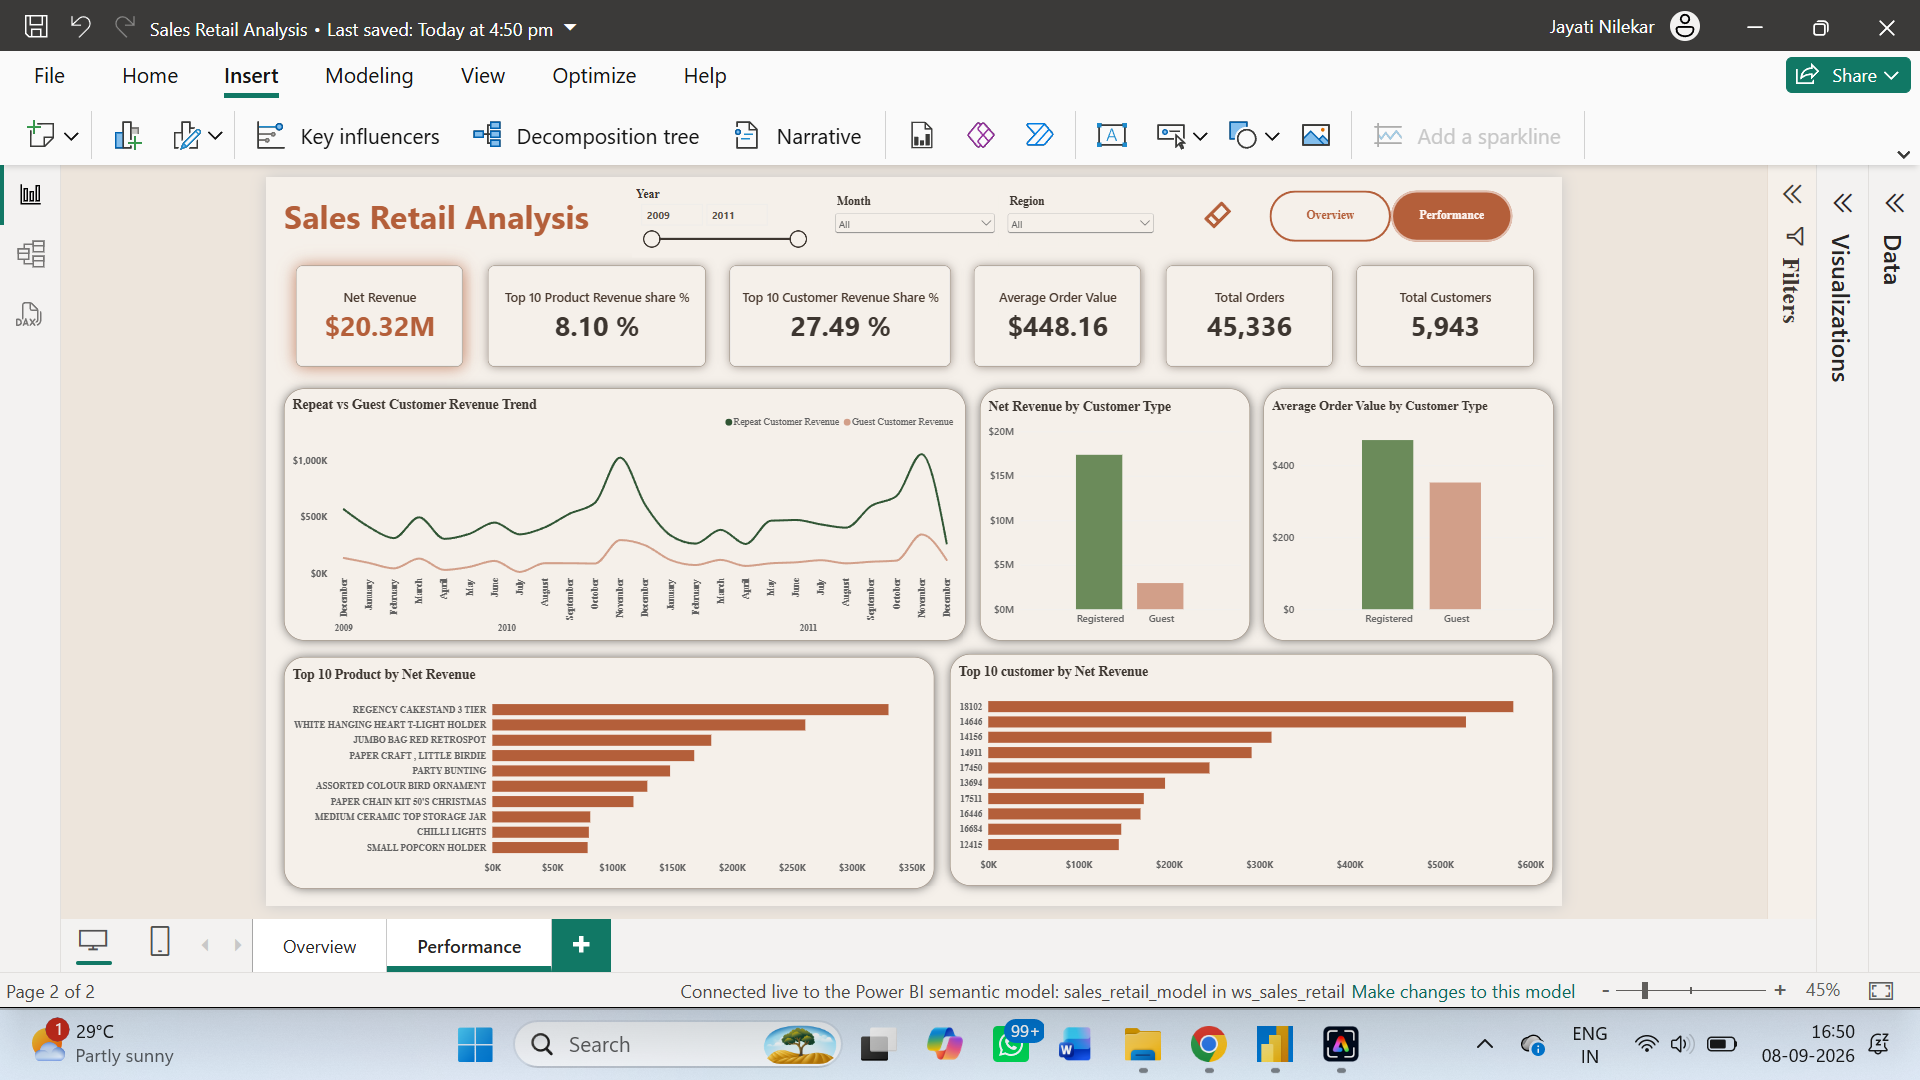

The page's visual inventory and layout, read from the dashboard file:
{"tool":"powerbi","page":{"name":"Performance","canvas":[1920,1080],"ordinal":1},"visuals":[{"type":"textbox","box":[26.7,23.3,470,90],"z":0},{"type":"clusteredBarChart","title":"Top 10 Product by Net Revenue","fields":{"Category":["dim_product.description"],"Y":["fact_sales.Net Revenue"]},"box":[26.7,710,963.3,343.3],"z":1000},{"type":"lineChart","title":"Repeat vs Guest Customer Revenue Trend","fields":{"Category":["dim_date.year","dim_date.month_name"],"Y":["dim_customer.Repeat Customer Revenue","fact_sales.Guest Customer Revenue"]},"box":[26.7,313.3,1010,373.3],"z":2000},{"type":"cardVisual","fields":{"Data":["dim_customer.Top 10 Product Revenue %"]},"box":[328,130,322.5,150],"z":3000},{"type":"cardVisual","fields":{"Data":["fact_sales.Customer Count"]},"box":[1615,130,262.5,150],"z":4000},{"type":"cardVisual","fields":{"Data":["fact_sales.order count"]},"box":[1332.8,130,246.7,150],"z":5000},{"type":"slicer","title":"Year","fields":{"Values":["dim_date.year"]},"box":[542.5,15,262.5,102.5],"z":6000},{"type":"slicer","fields":{"Values":["dim_date.month_name"]},"box":[837.5,27.5,247.1,77.1],"z":7000},{"type":"slicer","fields":{"Values":["dim_region.region"]},"box":[1092.5,27.5,226.7,76.7],"z":8000},{"type":"actionButton","box":[1367.5,17.5,86.7,76.7],"z":9000},{"type":"pageNavigator","box":[1486.7,20,360,76.7],"z":10000},{"type":"clusteredColumnChart","title":"Net Revenue by Customer Type","fields":{"Category":["dim_customer.customer_type"],"Y":["fact_sales.Net Revenue"]},"box":[1056.7,313.3,400,373.3],"z":11000},{"type":"clusteredColumnChart","title":"Average Order Value by Customer Type","fields":{"Category":["dim_customer.customer_type"],"Y":["fact_sales.Average Order Value"]},"box":[1476.7,313.3,430,373.3],"z":12000},{"type":"cardVisual","fields":{"Data":["fact_sales.Net Revenue"]},"box":[45,130,247.5,150],"z":13000},{"type":"clusteredBarChart","title":"Top 10 customer by Net Revenue","fields":{"Category":["dim_customer.customer_id"],"Y":["fact_sales.Net Revenue"]},"box":[1013.3,706.7,893.3,343.3],"z":14000},{"type":"cardVisual","fields":{"Data":["dim_customer.Top 10 Customer Revenue %"]},"box":[686,130,328.3,150],"z":15000},{"type":"cardVisual","fields":{"Data":["fact_sales.Average Order Value"]},"box":[1049.8,130,247.5,150],"z":16000}]}

Visuals, with their boxes on the page's 1920x1080 design canvas (x1, y1, x2, y2). These are canvas units, not pixel positions in the 1920x1080 screenshot, which may show the page scaled, cropped or inside an application window:
textbox: detection(27, 23, 497, 113)
"Top 10 Product by Net Revenue" clusteredBarChart: detection(27, 710, 990, 1053)
"Repeat vs Guest Customer Revenue Trend" lineChart: detection(27, 313, 1037, 687)
cardVisual - dim_customer.Top 10 Product Revenue %: detection(328, 130, 650, 280)
cardVisual - fact_sales.Customer Count: detection(1615, 130, 1878, 280)
cardVisual - fact_sales.order count: detection(1333, 130, 1580, 280)
"Year" slicer: detection(542, 15, 805, 118)
slicer - dim_date.month_name: detection(838, 28, 1085, 105)
slicer - dim_region.region: detection(1092, 28, 1319, 104)
actionButton: detection(1368, 18, 1454, 94)
pageNavigator: detection(1487, 20, 1847, 97)
"Net Revenue by Customer Type" clusteredColumnChart: detection(1057, 313, 1457, 687)
"Average Order Value by Customer Type" clusteredColumnChart: detection(1477, 313, 1907, 687)
cardVisual - fact_sales.Net Revenue: detection(45, 130, 292, 280)
"Top 10 customer by Net Revenue" clusteredBarChart: detection(1013, 707, 1907, 1050)
cardVisual - dim_customer.Top 10 Customer Revenue %: detection(686, 130, 1014, 280)
cardVisual - fact_sales.Average Order Value: detection(1050, 130, 1297, 280)
